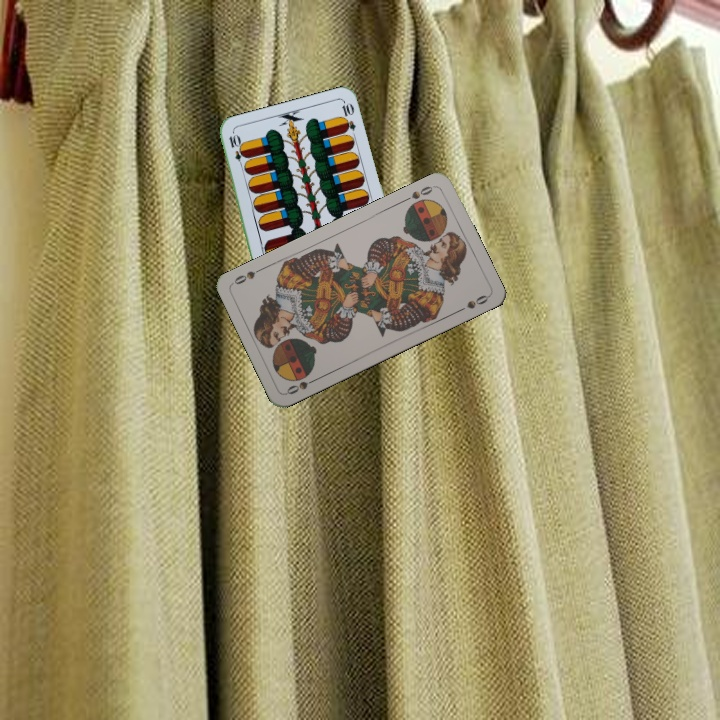E10: (225, 131, 247, 171)
SO: (399, 181, 438, 209), (283, 374, 321, 397)
